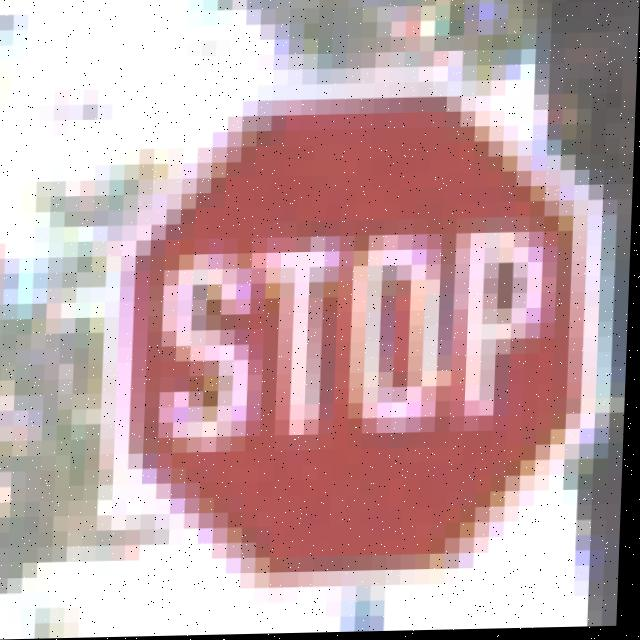stop: (108, 50, 604, 578)
